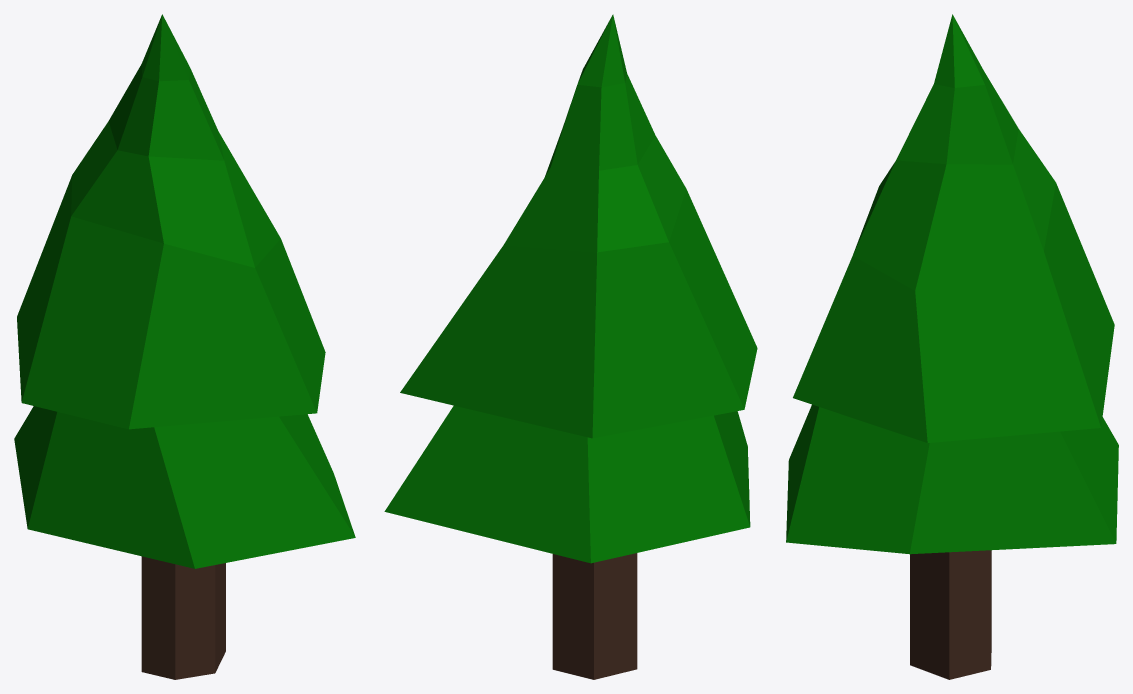
File: sapin.fbx
3 renders of one model, left to right at view 1: azimuth 30°, elevation 25°; view 2: azimuth 150°, elevation 25°; view 3: azimuth 270°, elevation 25°, orthographic. The views are drawn at different scales.
Parts seen in each view (by area): view 1: Cube; view 2: Cube; view 3: Cube.
Boxes of the visible parts, x1,y1,x2,y2 form: Cube: (14, 14, 355, 679); Cube: (384, 14, 757, 679); Cube: (786, 14, 1118, 679).
Size of the model in its own units: 227 by 492 by 233.
